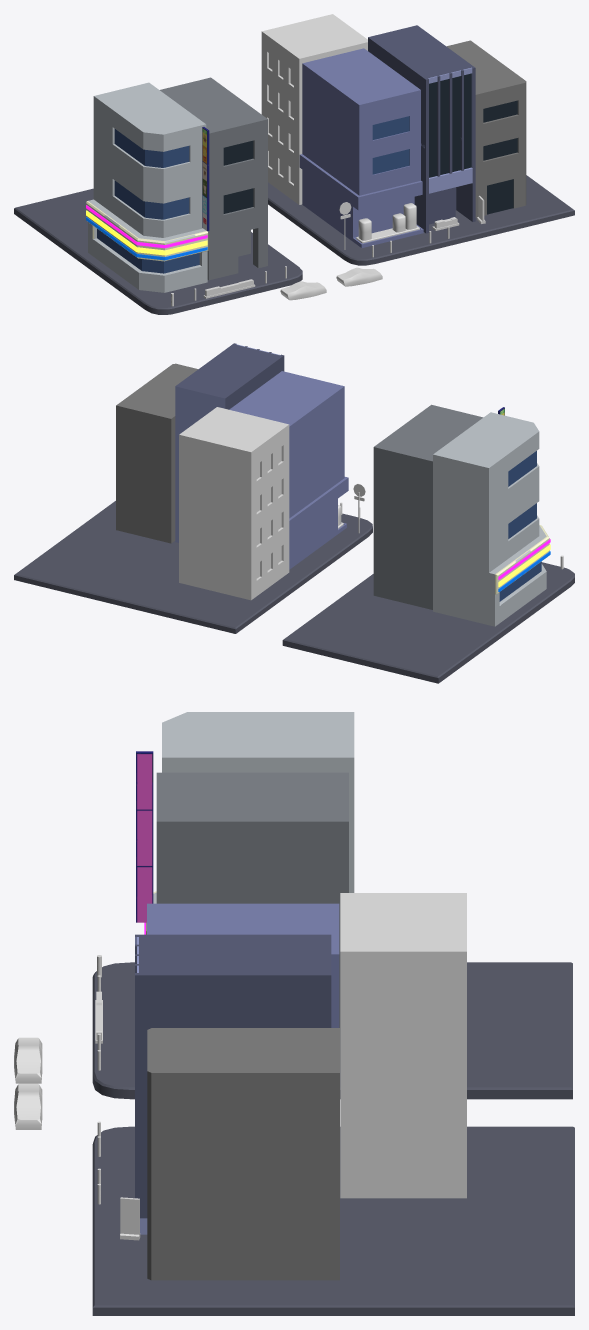
File: 第一关2.fbx
The picture shows the model from 3 angles, top to bottom: view 1: azimuth 30°, elevation 25°; view 2: azimuth 150°, elevation 25°; view 3: azimuth 270°, elevation 25°; orthographic projection. The views are drawn at different scales.
Visible parts, largest first — view 1: 楼1, 楼4, 楼5, 楼3, 楼6, 楼7, 地左, 地右, 广告牌1, 灯带2, Box002, Box003 (+2 smaller); view 2: 楼1, 楼6, 地右, 地左, 楼3, 楼4, 楼7, 楼5; view 3: 地右, 楼7, 楼6, 楼3, 楼5, 地左, 楼1, 楼4, 广告牌1, Box003, Box002, 广告立牌.
Boxes of the visible parts, x1,y1,x2,y2 form: 楼1: [86, 82, 208, 292]; 楼4: [299, 48, 423, 247]; 楼5: [368, 25, 475, 233]; 楼3: [160, 77, 267, 280]; 楼6: [261, 14, 367, 204]; 楼7: [446, 40, 526, 217]; 地左: [14, 188, 302, 314]; 地右: [268, 175, 574, 265]; 广告牌1: [202, 127, 209, 231]; 灯带2: [86, 210, 207, 255]; Box002: [280, 281, 326, 300]; Box003: [336, 267, 382, 286]; 楼1: [433, 412, 549, 626]; 楼6: [179, 407, 289, 600]; 地右: [14, 501, 372, 633]; 地左: [282, 562, 574, 683]; 楼3: [373, 404, 483, 609]; 楼4: [229, 371, 348, 569]; 楼7: [116, 363, 198, 543]; 楼5: [175, 343, 284, 542]; 地右: [92, 1126, 574, 1315]; 楼7: [147, 1028, 339, 1280]; 楼6: [340, 893, 466, 1198]; 楼3: [156, 772, 348, 1068]; 楼5: [135, 934, 331, 1234]; 地左: [92, 962, 572, 1099]; 楼1: [146, 712, 354, 934]; 楼4: [147, 903, 339, 1027]; 广告牌1: [136, 751, 153, 922]; Box003: [14, 1083, 42, 1129]; Box002: [14, 1037, 42, 1083]; 广告立牌: [120, 1197, 140, 1240].
Size of what is drawn, in the model's own units: 1667 by 618 by 1148.
